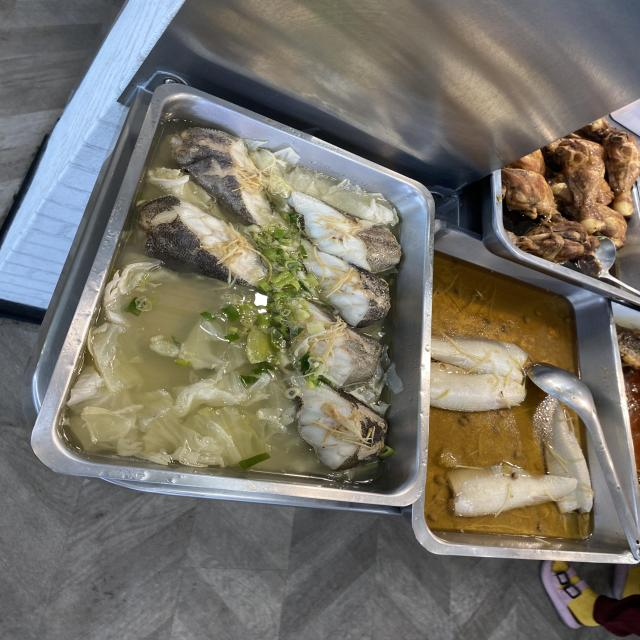Steamed fish: (161, 195, 371, 332)
